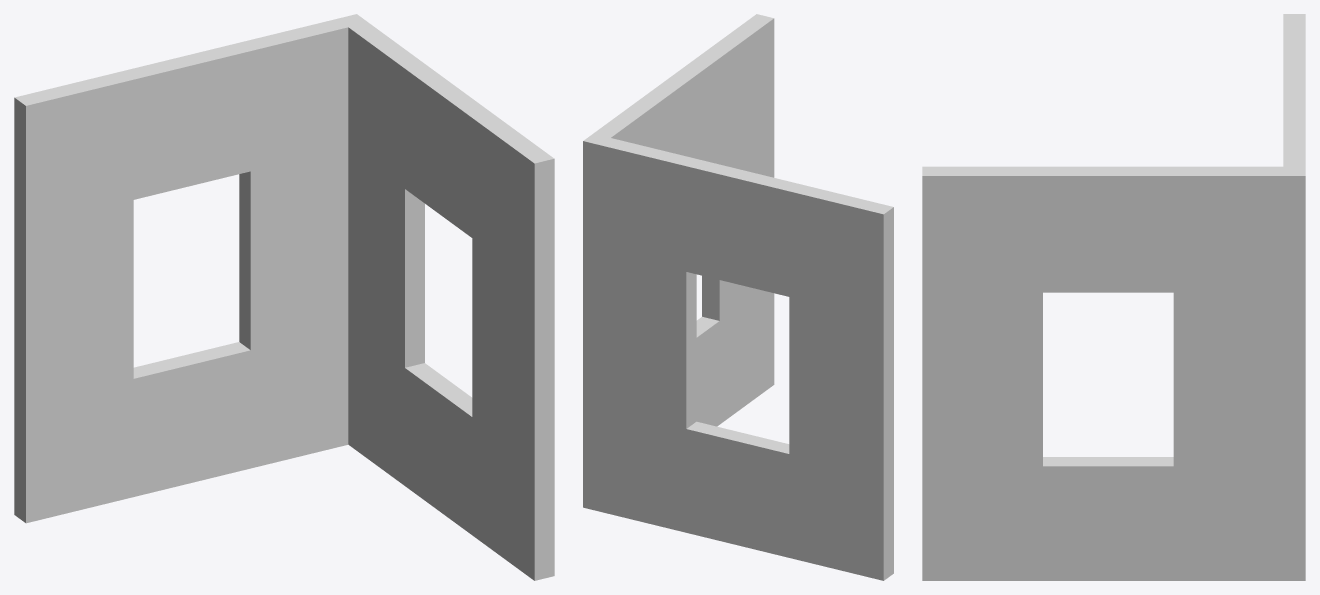
The model's file is Wall1_C1_09.fbx.
3 views of the same model, side by side, from view 1: azimuth 30°, elevation 25°; view 2: azimuth 150°, elevation 25°; view 3: azimuth 270°, elevation 25° (orthographic). The views are drawn at different scales.
Parts seen in each view (by area): view 1: Wall1_C1_09; view 2: Wall1_C1_09; view 3: Wall1_C1_09.
Boxes of the visible parts, x1=… form: Wall1_C1_09: x1=14, y1=14, x2=554, y2=580; Wall1_C1_09: x1=583, y1=14, x2=893, y2=580; Wall1_C1_09: x1=922, y1=14, x2=1305, y2=580.
Size of the model in its own units: 258 by 300 by 258.
